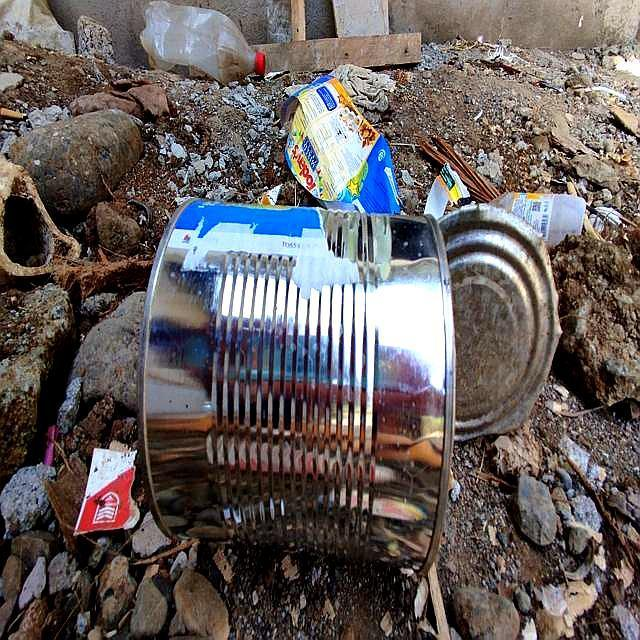Non-biodegradable: (139, 199, 563, 583)
